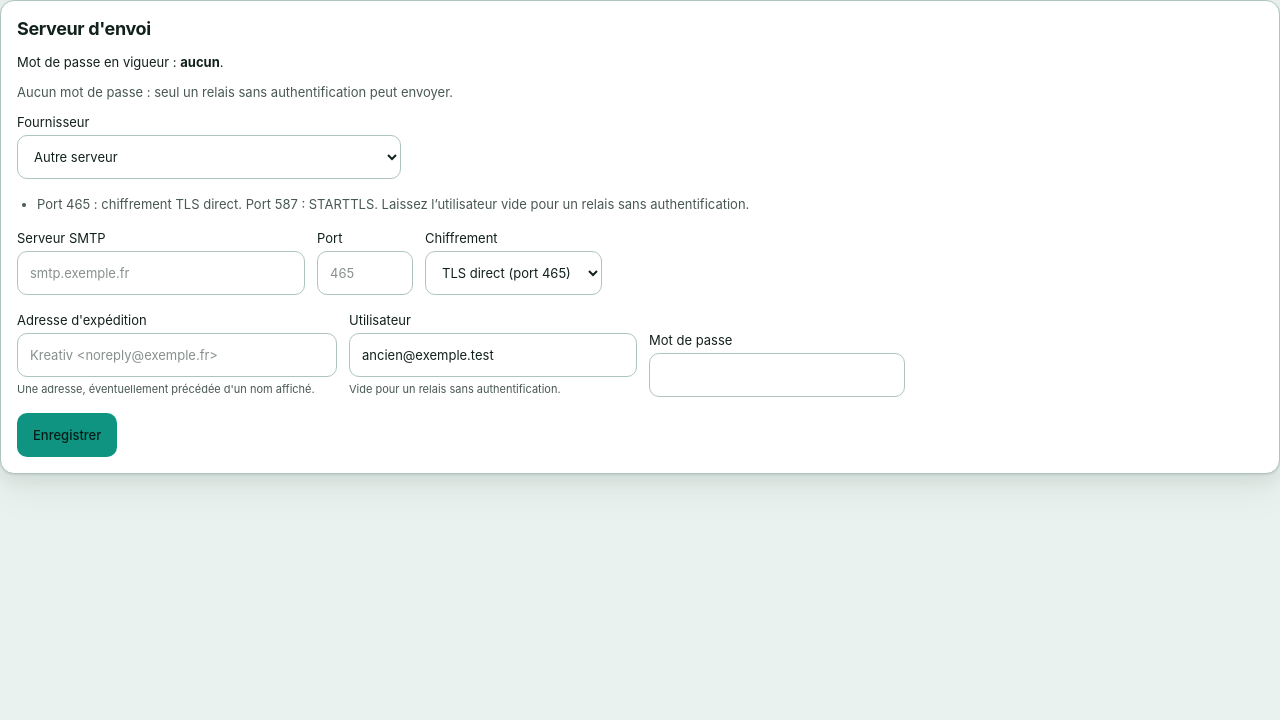
Scenario: ReglagesForm (courriel) › le relais Google : STARTTLS 587, ni utilisateur ni mot de passe, et l aide de la console
The image size is (1280, 720).
Select "Google Workspace — relais SMTP" in the dropdown labelled "Fournisseur": (209, 157) [17, 135, 401, 179]
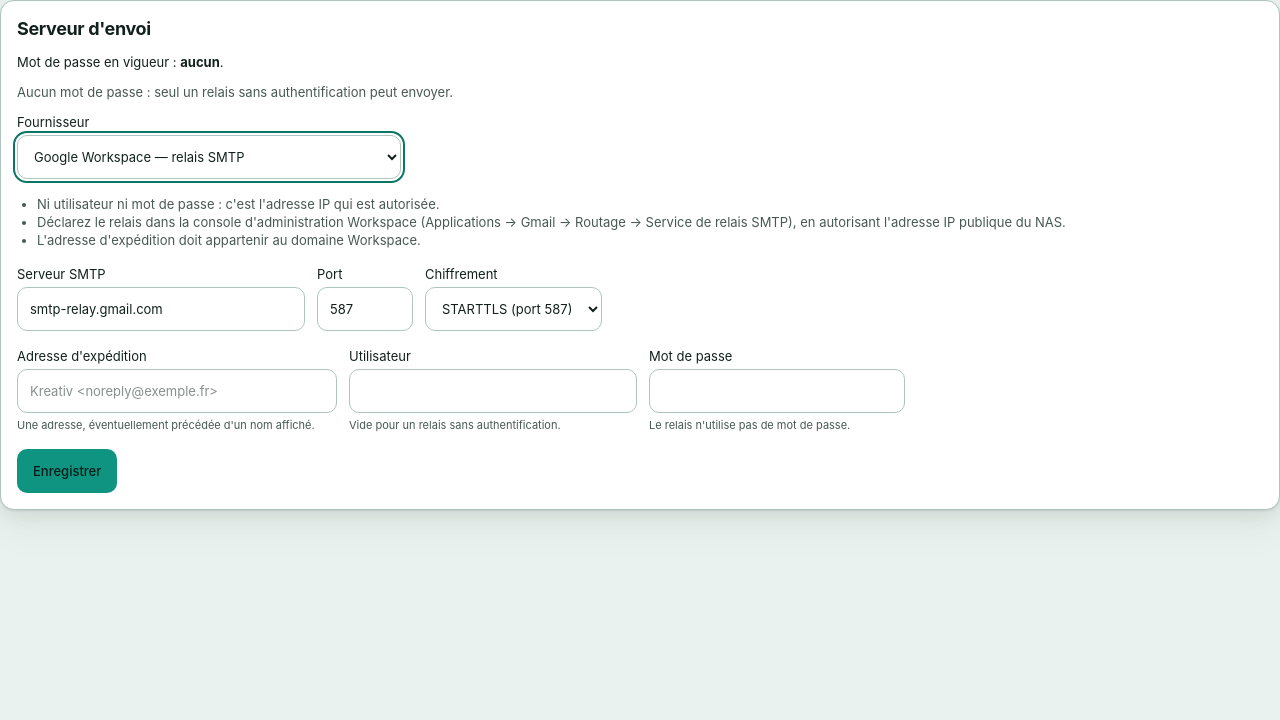
Expected: the text "console d'administration" is shown, [37, 214, 1066, 230]
Expected: the text "adresse IP publique du NAS" is shown, [37, 214, 1066, 230]
